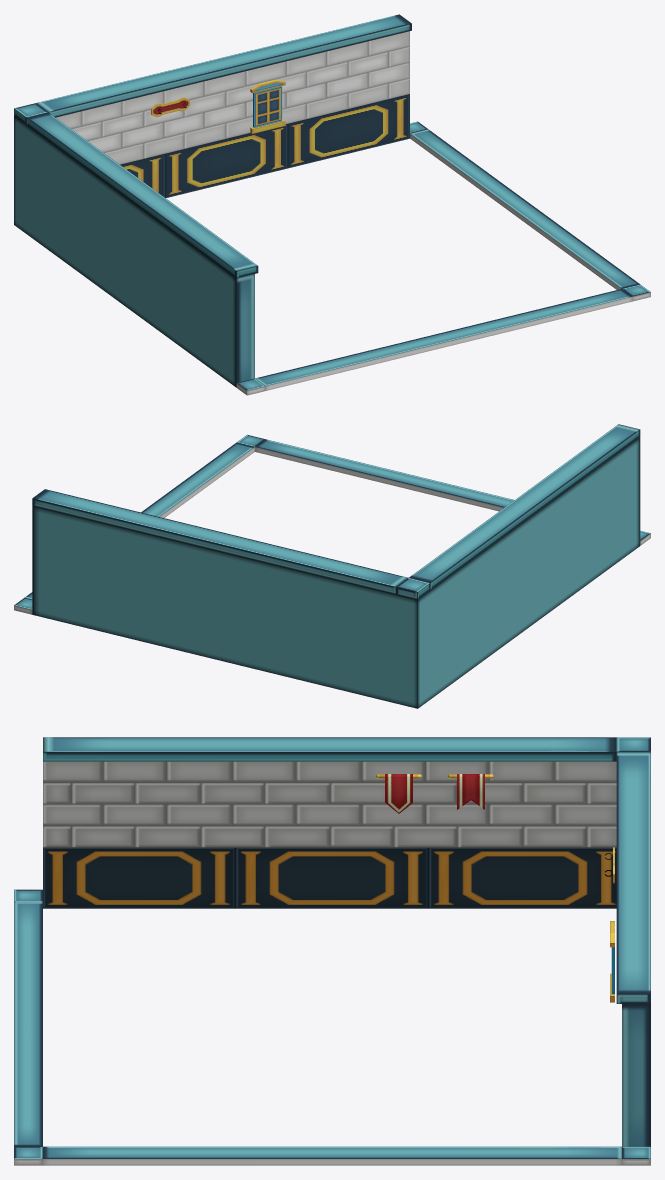
Rendered from S3_Wall.FBX.
The picture shows the model from 3 angles, top to bottom: view 1: azimuth 30°, elevation 25°; view 2: azimuth 150°, elevation 25°; view 3: azimuth 270°, elevation 25°; orthographic projection. The views are drawn at different scales.
Visible parts, largest first — view 1: Object162, Object142; view 2: Object162; view 3: Object162, Object159, Object160.
Boxes of the visible parts, x1=… form: Object162: x1=14, y1=14, x2=650, y2=395; Object142: x1=250, y1=80, x2=285, y2=133; Object162: x1=14, y1=424, x2=650, y2=708; Object162: x1=14, y1=737, x2=650, y2=1165; Object159: x1=375, y1=774, x2=422, y2=813; Object160: x1=447, y1=774, x2=494, y2=809.
Size of the model in its own units: 22 by 6.07 by 22.
